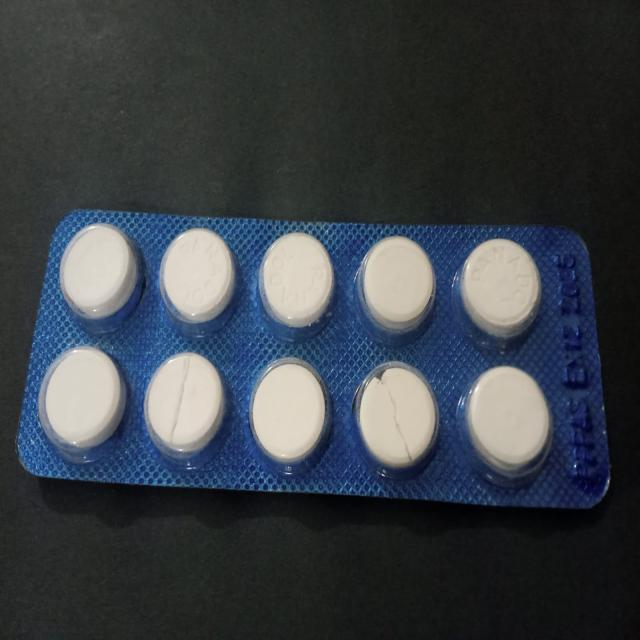defect: (141, 348, 235, 472), (350, 358, 442, 484)
